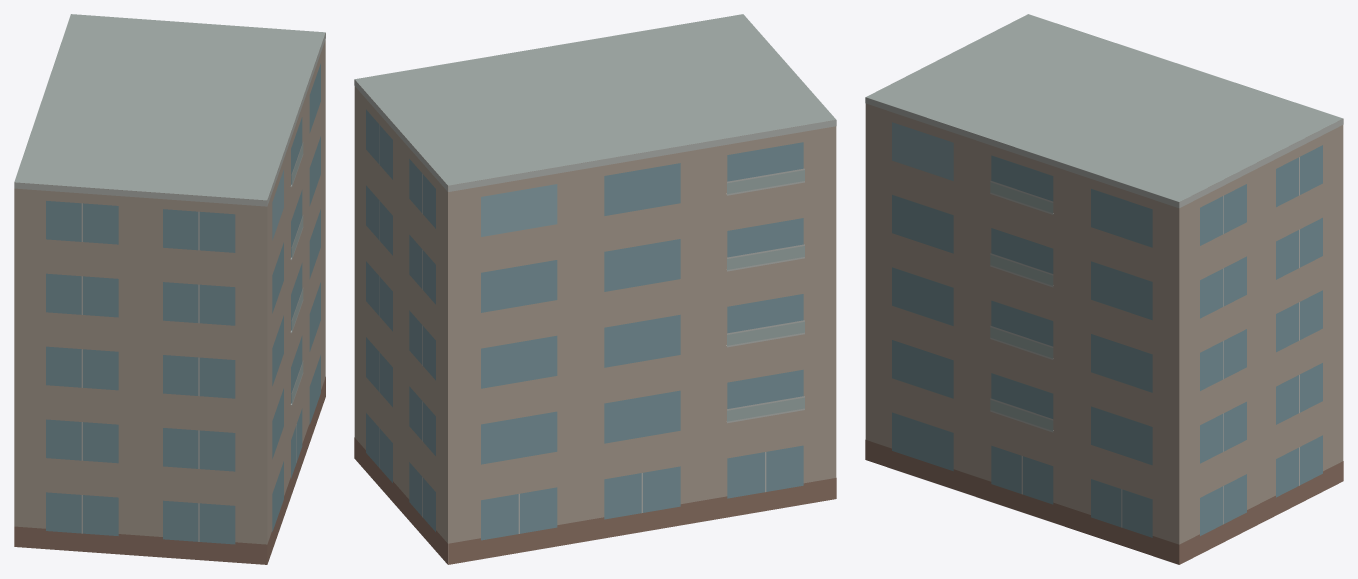
The model's file is survey-upis-32986775.glb.
3 renders of one model, left to right at view 1: azimuth 30°, elevation 25°; view 2: azimuth 150°, elevation 25°; view 3: azimuth 270°, elevation 25°, orthographic. The views are drawn at different scales.
Parts seen in each view (by area): view 1: survey-upis-32986775.tmp; view 2: survey-upis-32986775.tmp; view 3: survey-upis-32986775.tmp.
Boxes of the visible parts, x1,y1,x2,y2 form: survey-upis-32986775.tmp: (14,14,325,564); survey-upis-32986775.tmp: (354,14,836,564); survey-upis-32986775.tmp: (865,14,1343,564).
Size of the model in its own units: 15.96 by 14.34 by 17.13.
